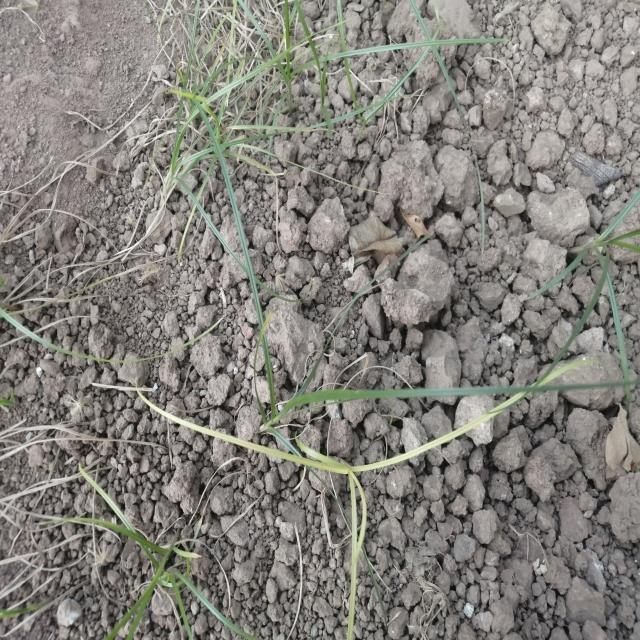sedge: (198, 158, 606, 552)
